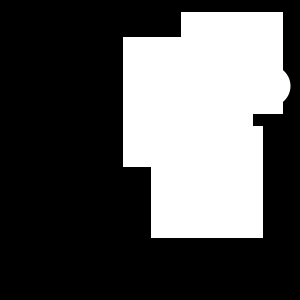circle: (123, 37, 253, 167), (151, 126, 263, 238), (181, 12, 283, 114)
rectangle: (250, 66, 290, 106)
